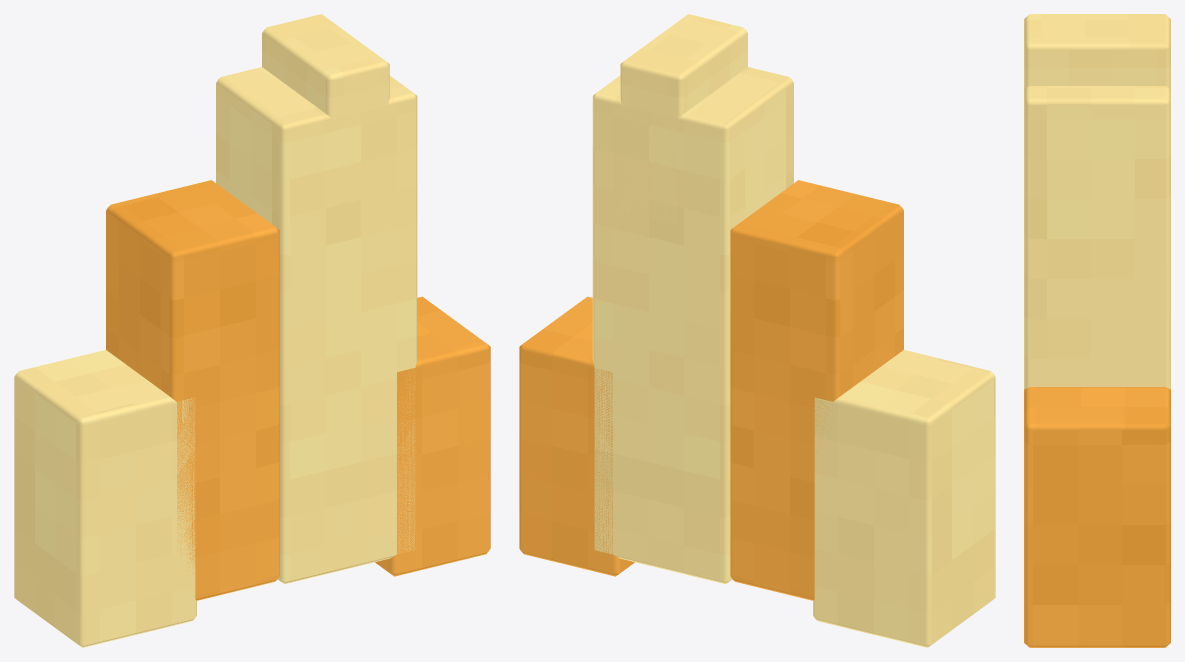
Rendered from Embers.glb.
3 renders of one model, left to right at view 1: azimuth 30°, elevation 25°; view 2: azimuth 150°, elevation 25°; view 3: azimuth 270°, elevation 25°, orthographic. The views are drawn at different scales.
Parts seen in each view (by area): view 1: Embers; view 2: Embers; view 3: Embers.
Part boxes in pixels (x1,y1,x2,y2): Embers: (14,14,490,647); Embers: (519,14,995,647); Embers: (1024,14,1170,647).
Bounding box in the file's own units: 0.45 × 0.54 × 0.13.
Materials: 2 (2 with a texture image).
